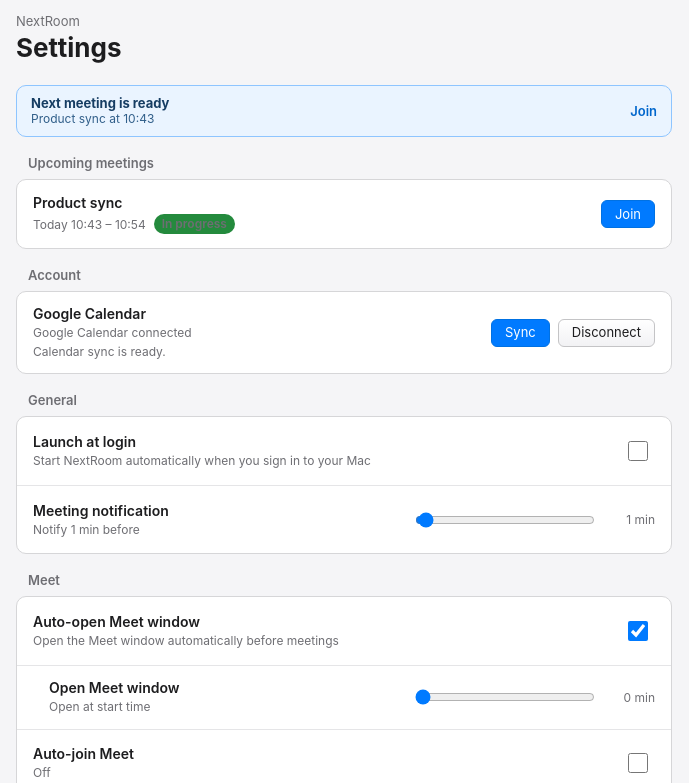
App › opens a meeting through the preload API and shows loading state
Click the button "Next meeting is ready Product sync at 10:43 Join" at (100, 103), box [16,85,672,137]
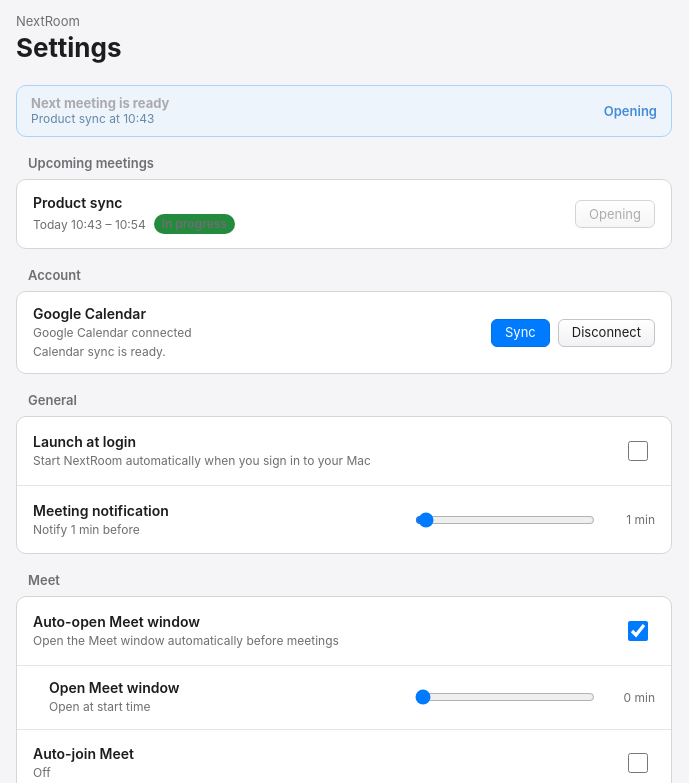
Expected: the button "Next meeting is ready Product sync at 10:43 Opening" is disabled
Click the button "Next meeting is ready Product sync at 10:43 Opening" at (100, 103), box [16,85,672,137]
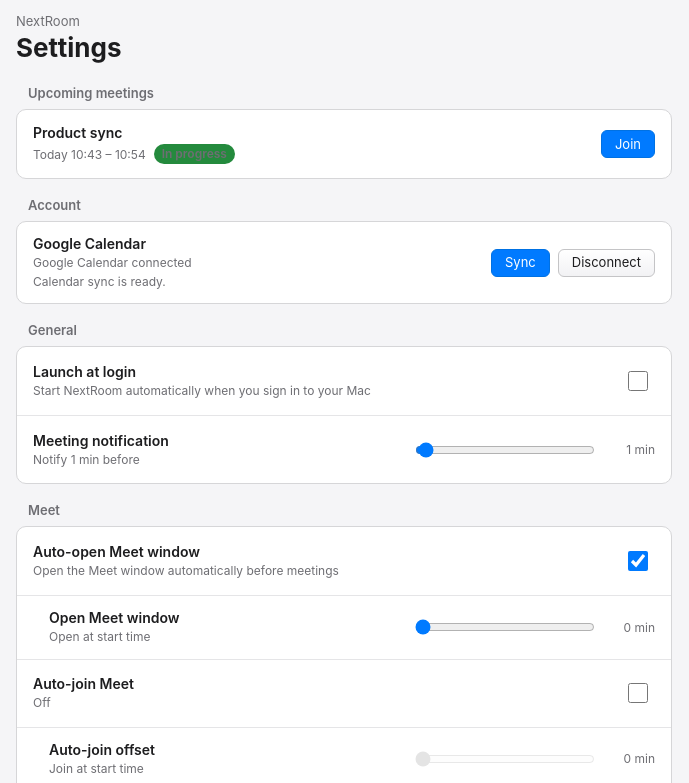
Expected: the button "Next meeting is ready" is gone
